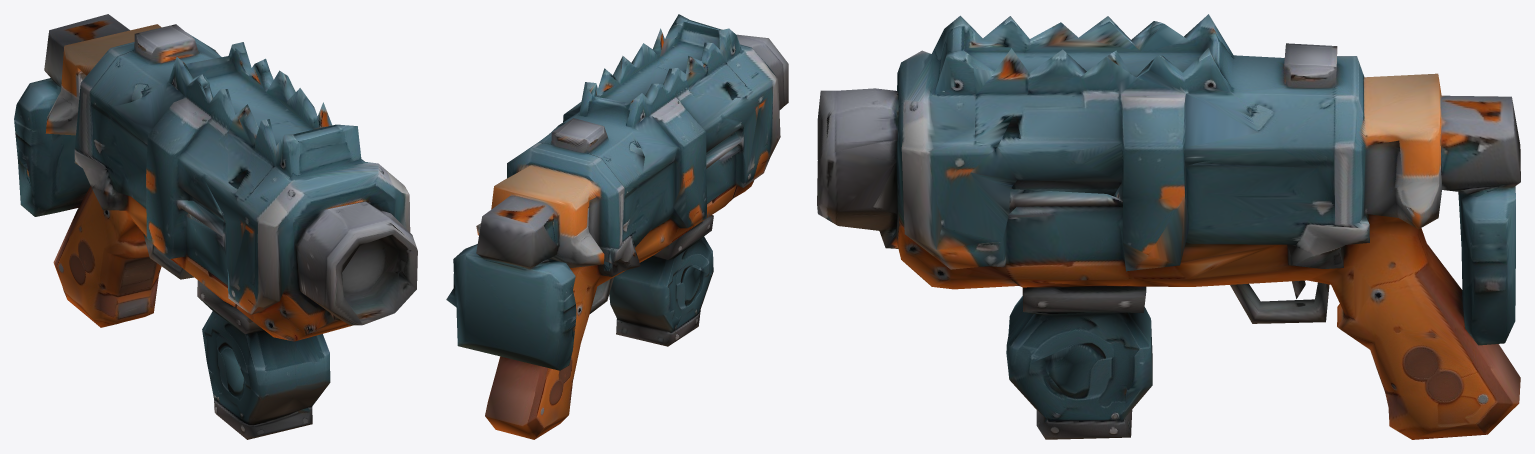
The model's file is weapon_shredder_1500.glb.
The picture shows the model from 3 angles, left to right: view 1: azimuth 30°, elevation 25°; view 2: azimuth 150°, elevation 25°; view 3: azimuth 270°, elevation 25°; orthographic projection. The views are drawn at different scales.
Parts seen in each view (by area): view 1: tripo_node_2a4df280-6e0e-4d4f-ba62-84ca75e193b9; view 2: tripo_node_2a4df280-6e0e-4d4f-ba62-84ca75e193b9; view 3: tripo_node_2a4df280-6e0e-4d4f-ba62-84ca75e193b9.
Boxes of the visible parts, x1=… form: tripo_node_2a4df280-6e0e-4d4f-ba62-84ca75e193b9: x1=14, y1=14, x2=417, y2=439; tripo_node_2a4df280-6e0e-4d4f-ba62-84ca75e193b9: x1=446, y1=14, x2=788, y2=439; tripo_node_2a4df280-6e0e-4d4f-ba62-84ca75e193b9: x1=817, y1=14, x2=1520, y2=439.
Bounding box in the file's own units: 0.2864 × 0.6078 × 0.9801.
1 material, 1 textured.
